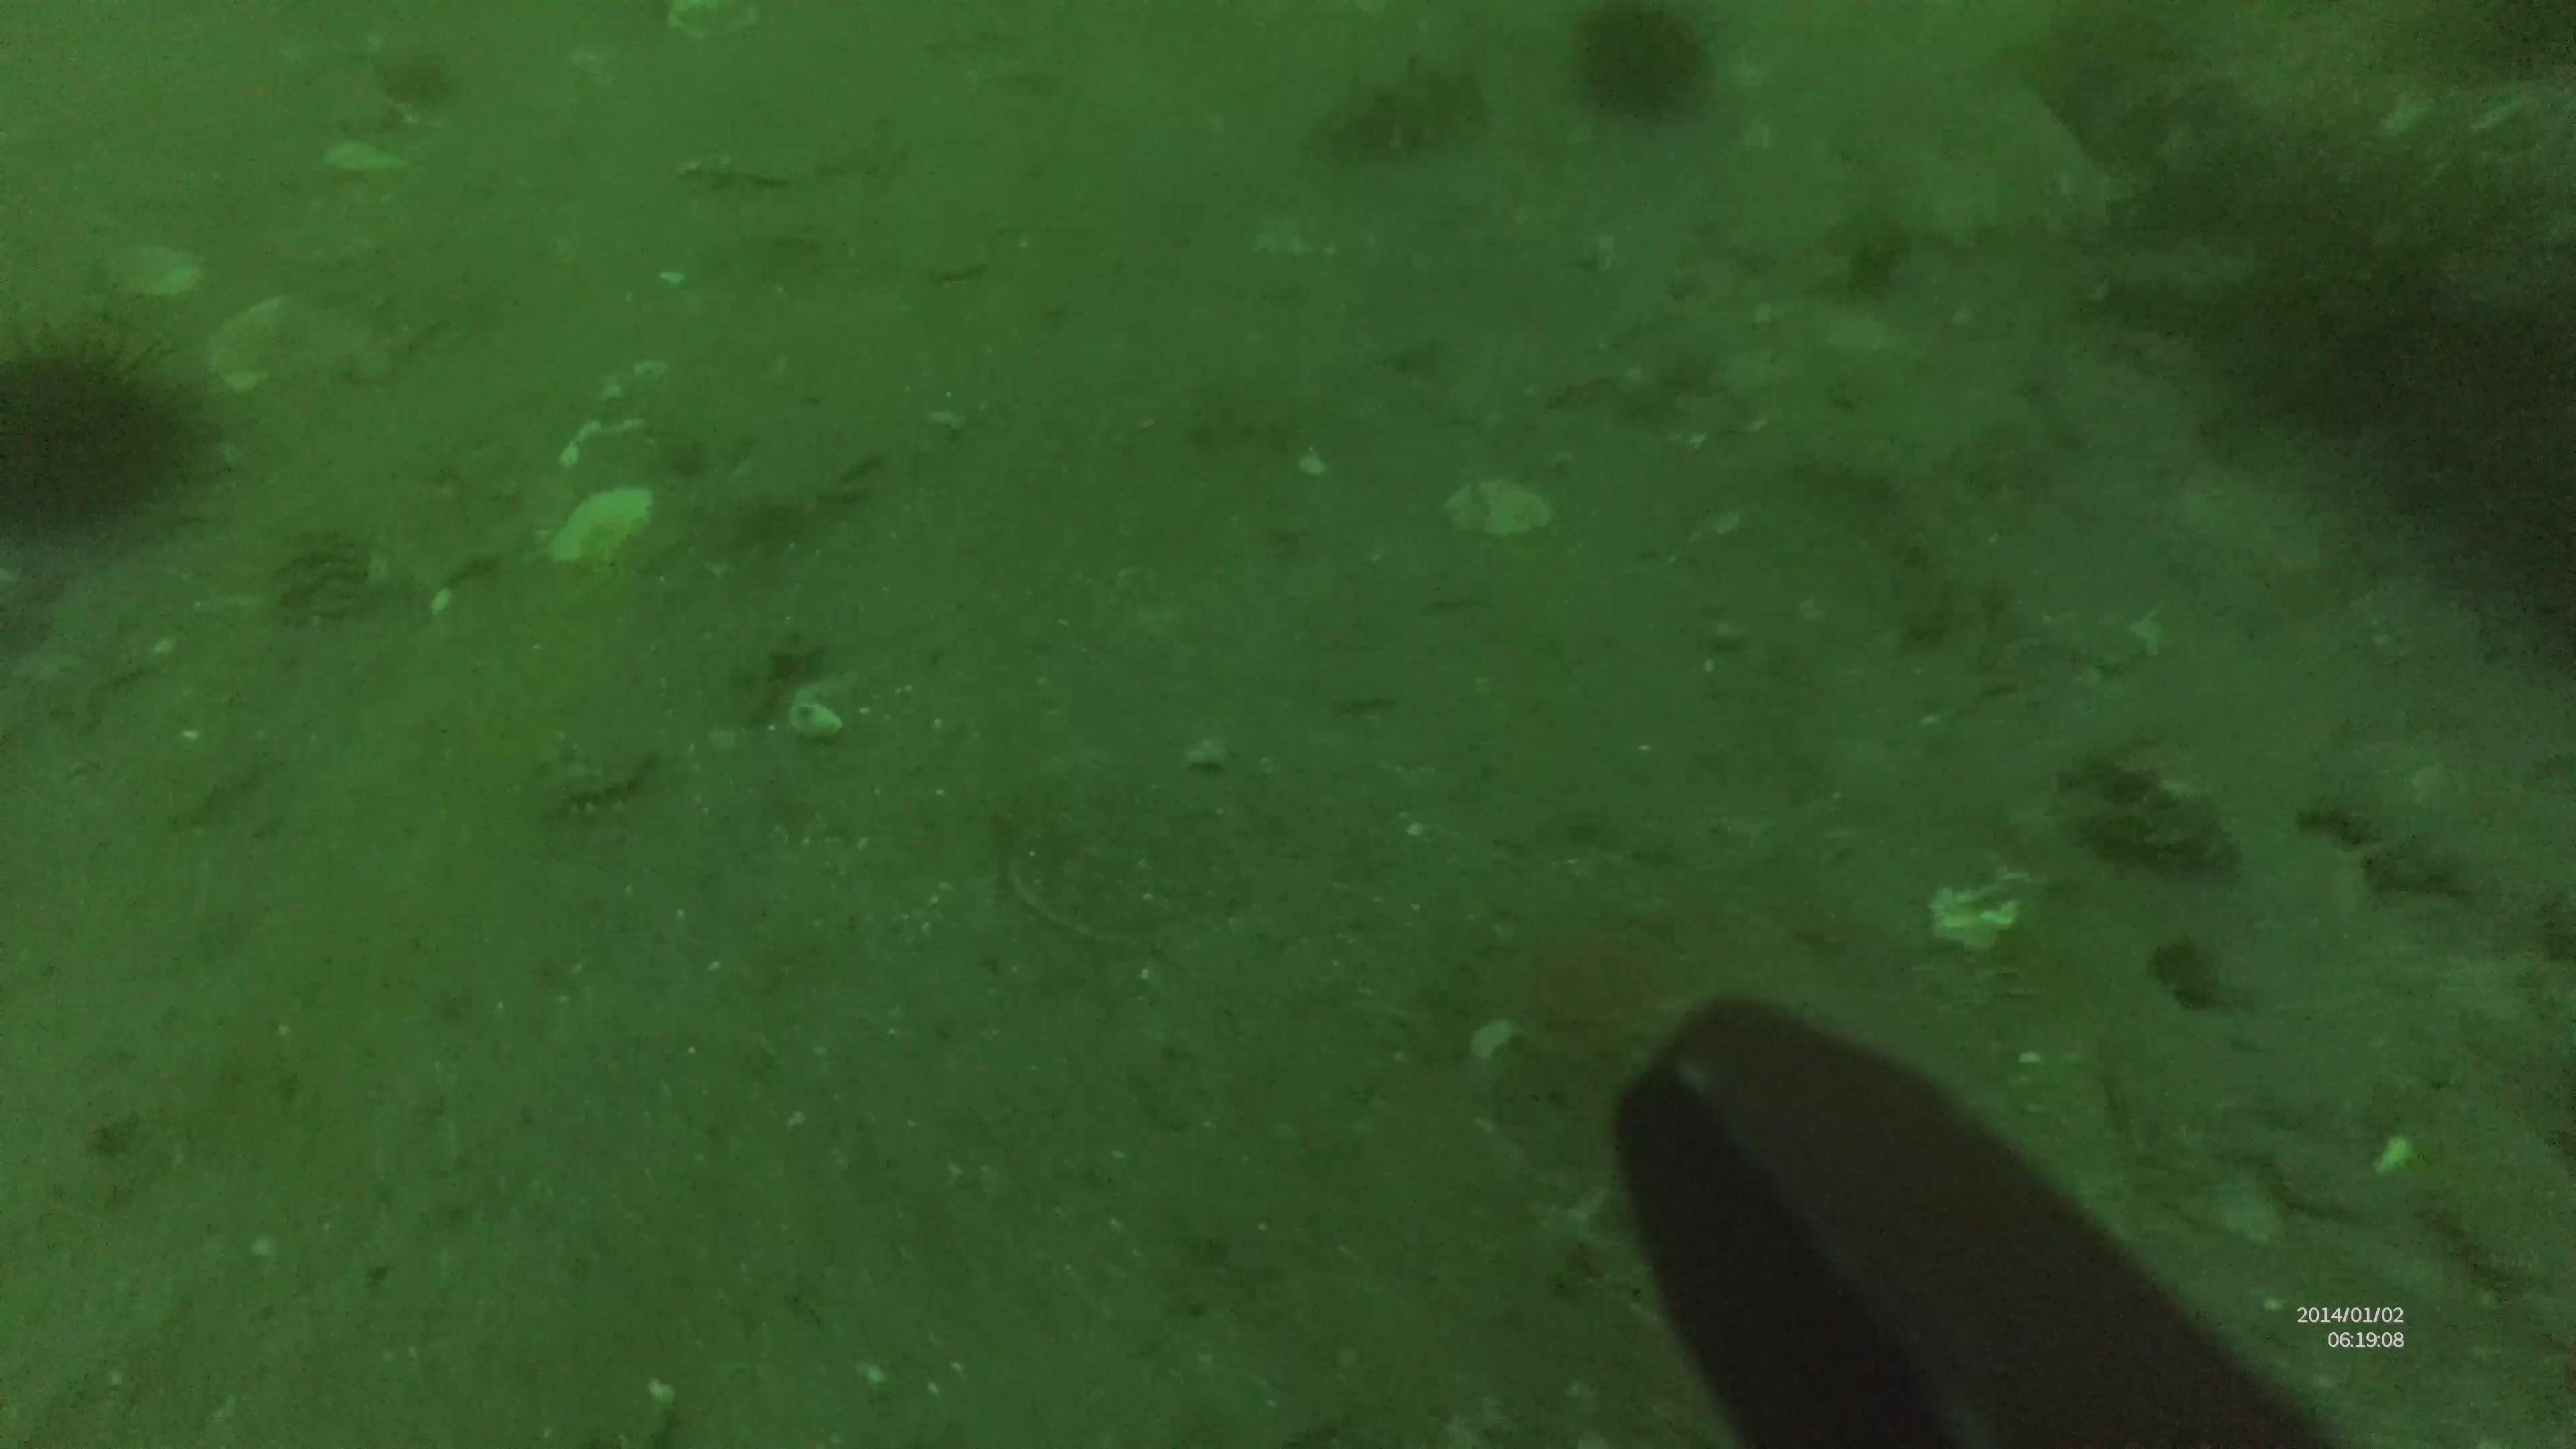echinus: (7, 324, 228, 548), (1568, 12, 1718, 126)
holothurian: (2309, 782, 2576, 943), (2079, 757, 2240, 886)
